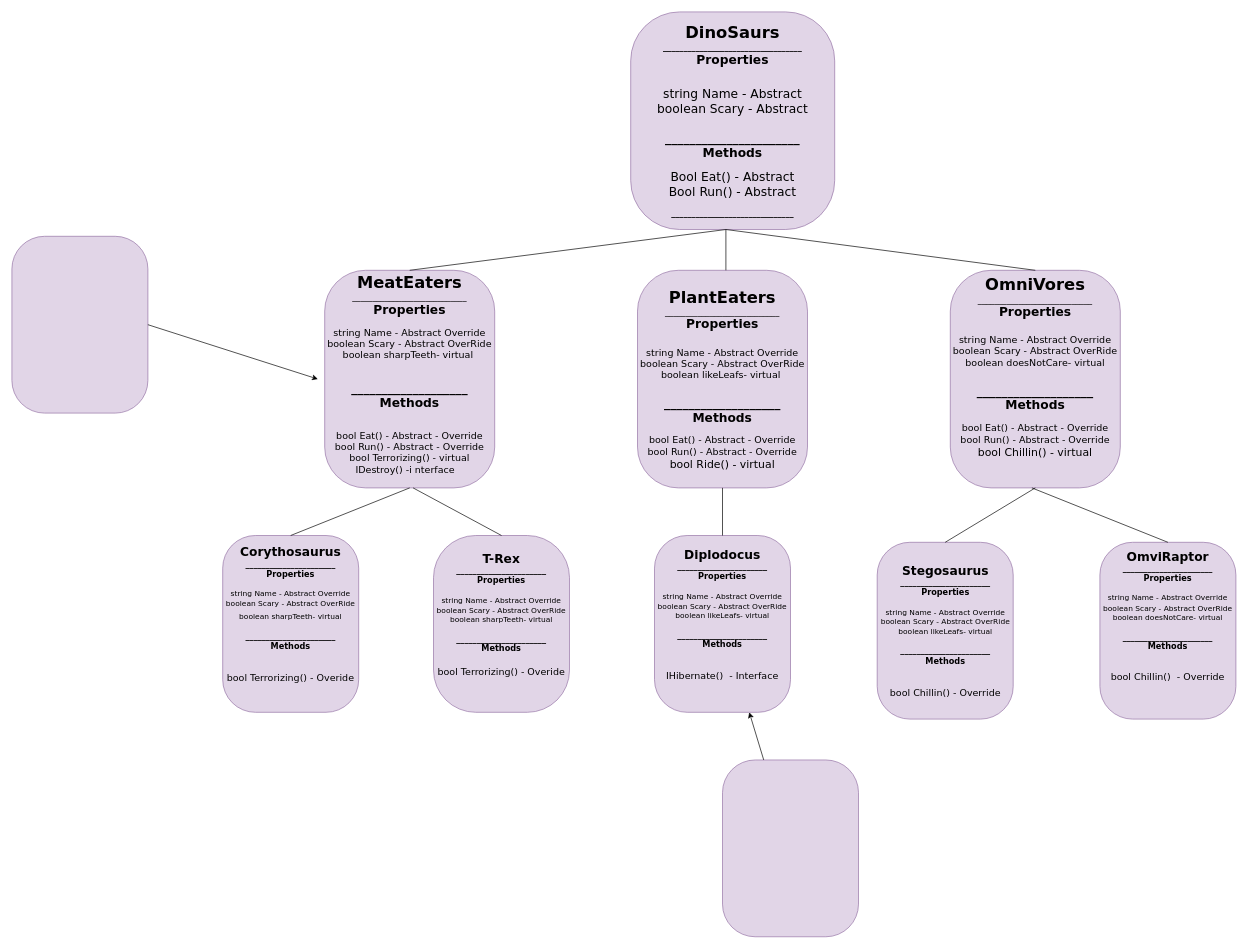
This 1248x949 diagram has some shape labels left out. Here are the shapes that lost their labels. From the top down, the box of each, then its label:
(11, 236, 148, 413): Interface Destroy ______________________ Methods IDestroy()
(722, 759, 859, 937): Interface Hibernate ______________________ Methods IHibernate()
